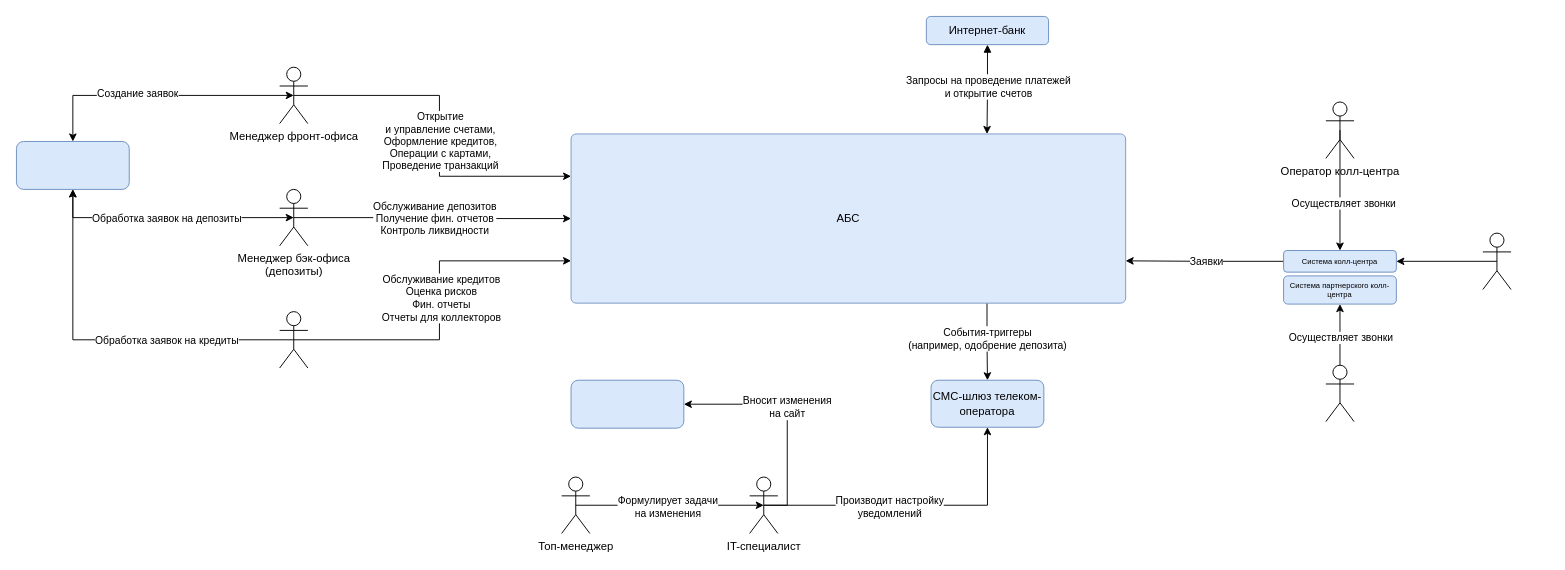
Image size: 1565x570. Some labels were removed from this diagram. The box of each missing label's shape, as (x1, y1, x2, y2) in pixels:
E-mail: (16, 141, 129, 189)
Менеджер бэк-офиса (кредиты): (279, 311, 308, 368)
Оператор партнерского колл-центра: (1325, 364, 1354, 422)
Сайт: (570, 379, 684, 428)
Сотрудник команды сопровождения (подрядчик): (1482, 232, 1511, 290)
